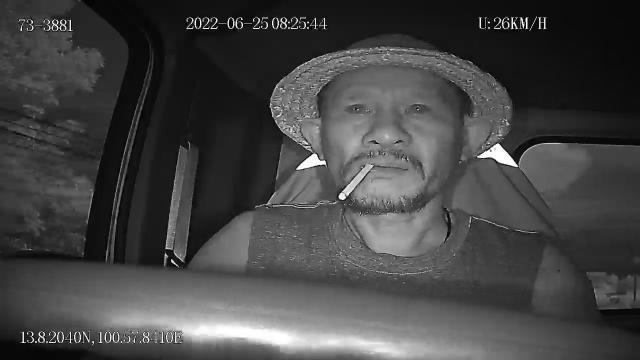SafeDriving: (398, 94, 438, 122), (340, 93, 378, 119)
Smoking: (337, 164, 375, 200)
